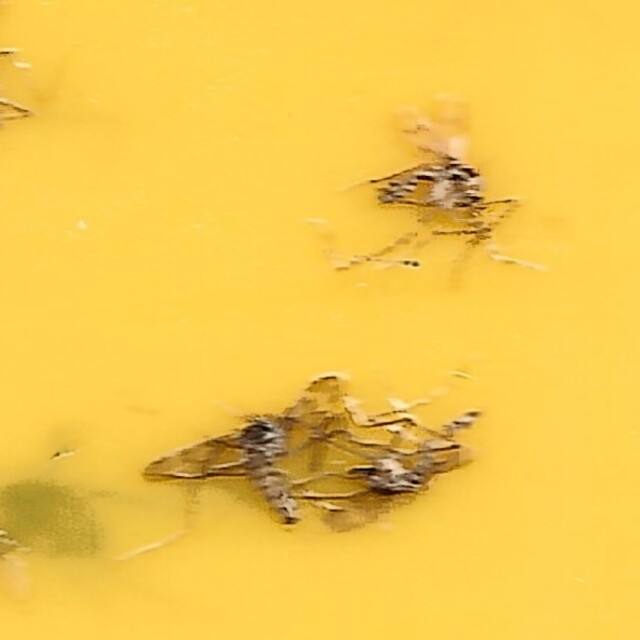Nematocera: (145, 378, 353, 532), (319, 406, 485, 504), (372, 108, 495, 234)
